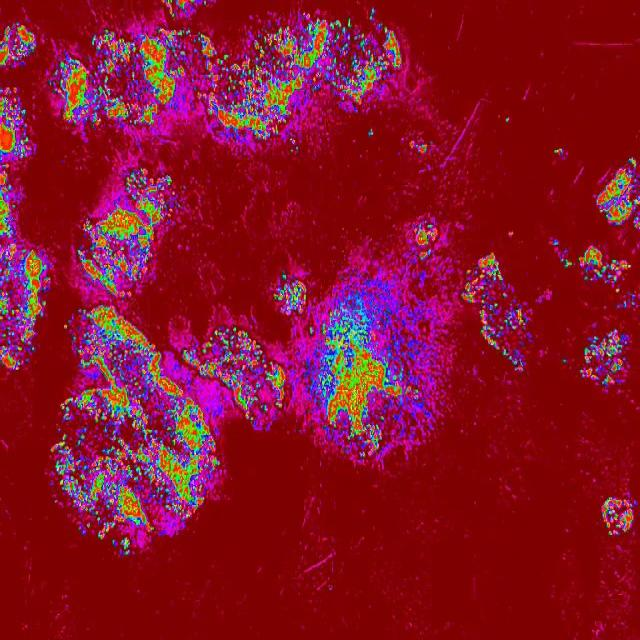fire: (52, 302, 225, 558), (196, 19, 408, 140), (304, 281, 444, 461), (47, 25, 196, 131), (75, 166, 180, 292), (461, 250, 532, 374), (228, 323, 286, 431), (0, 238, 46, 369), (580, 328, 634, 392), (599, 157, 640, 231), (0, 80, 34, 160), (578, 243, 632, 286), (0, 18, 37, 68), (269, 270, 305, 320), (0, 164, 21, 238), (600, 496, 638, 536), (412, 218, 438, 262), (162, 0, 208, 20), (546, 236, 572, 270), (614, 286, 635, 312), (408, 141, 428, 154), (294, 10, 318, 19), (553, 146, 566, 160), (288, 140, 298, 155), (367, 8, 378, 18), (502, 118, 512, 127), (562, 355, 568, 366)
